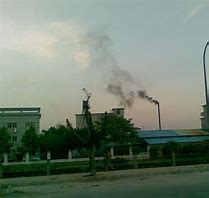smoke: (107, 80, 159, 105)
